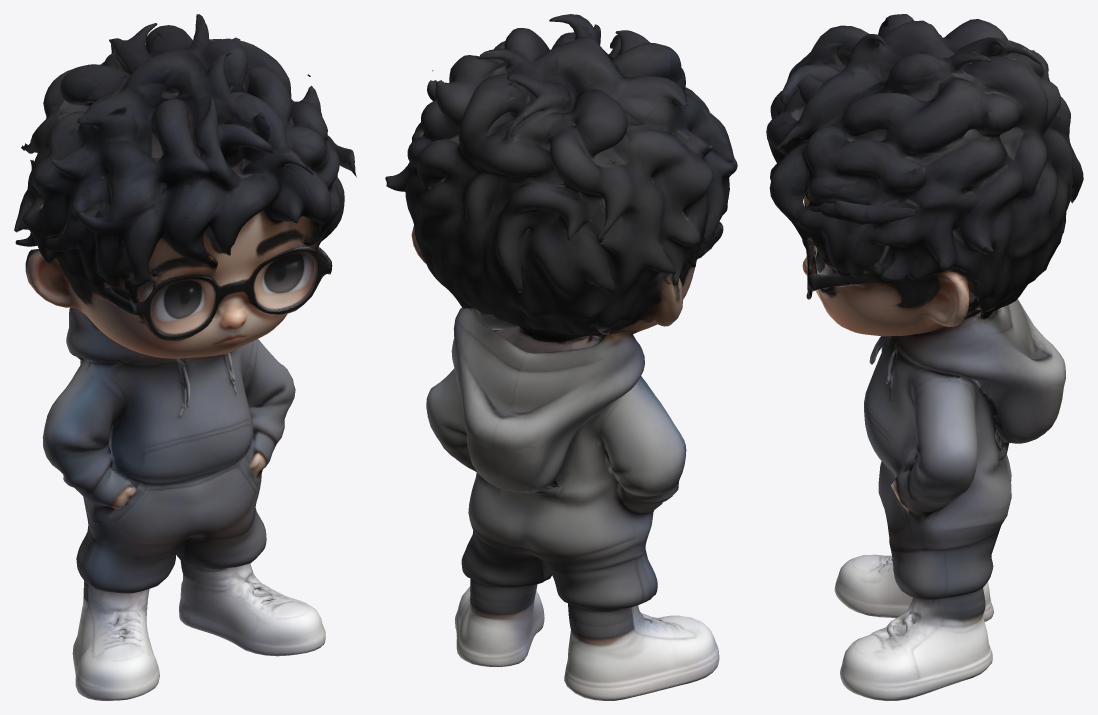
The model's file is chibi.glb.
The picture shows the model from 3 angles, left to right: view 1: azimuth 30°, elevation 25°; view 2: azimuth 150°, elevation 25°; view 3: azimuth 270°, elevation 25°; orthographic projection. The views are drawn at different scales.
Size of the model in its own units: 0.9948 by 2 by 0.9286.
1 material, 1 textured.
